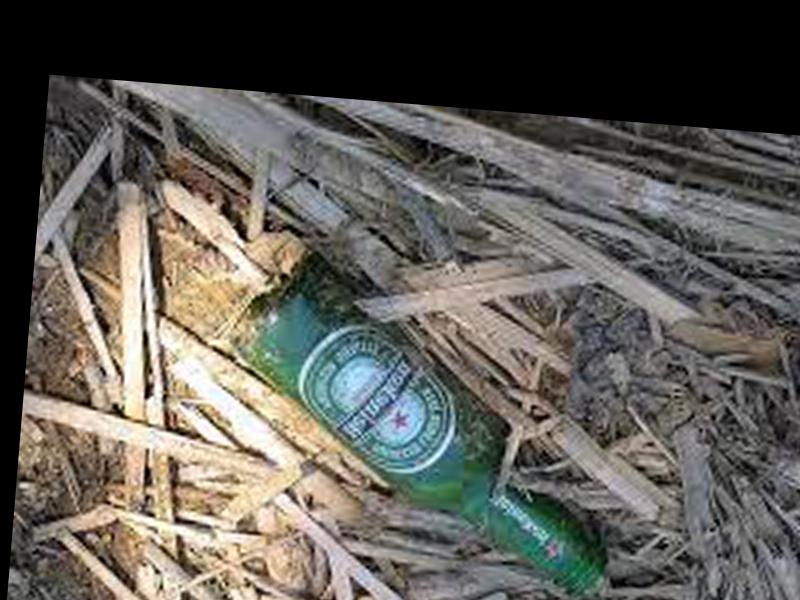Beer: (215, 250, 634, 594)
